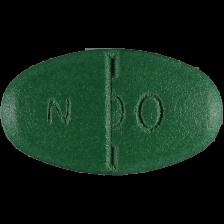63187-333: (0, 0, 224, 224)
